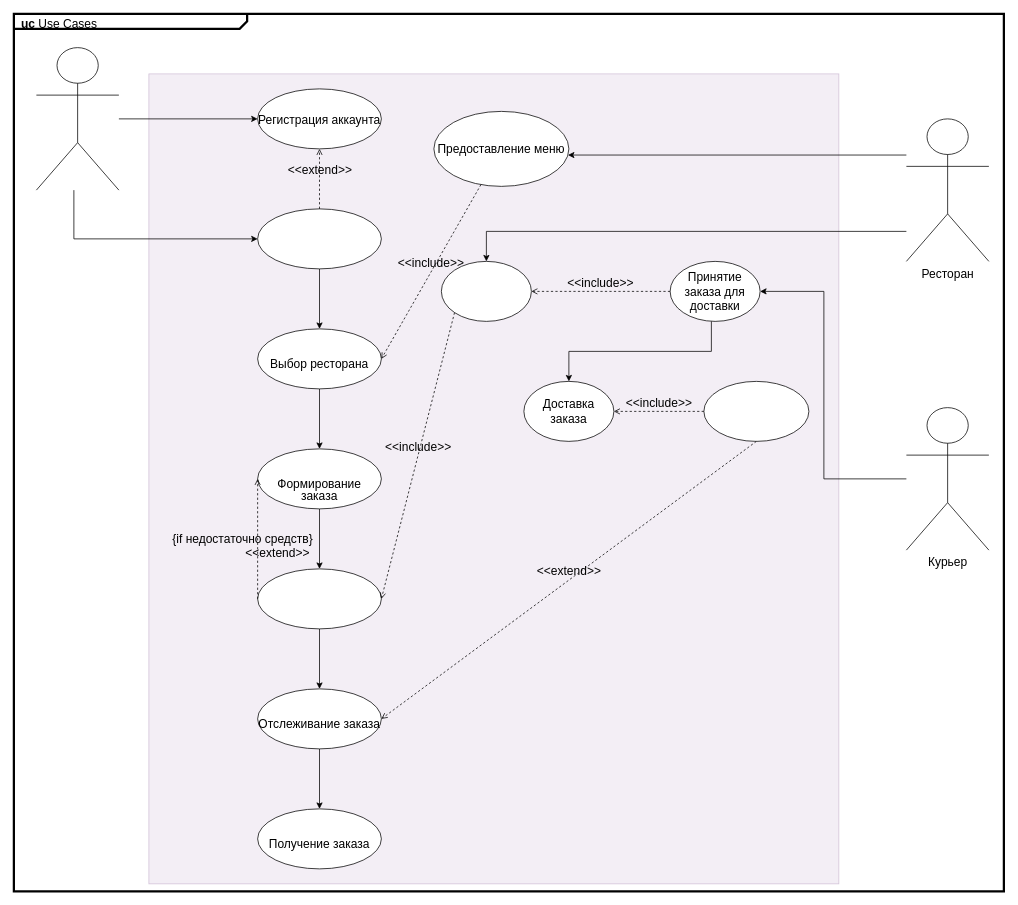
This 1018x905 diagram has some shape labels left out. Here are the shapes that lost their labels. From the top down, the centre of each, then its label:
the point at 77,118: Пользователь
the point at 319,238: Авторизация
the point at 486,291: Подтверждение заказов
the point at 756,411: Трансляция местоположения
the point at 319,598: Оплата заказа
